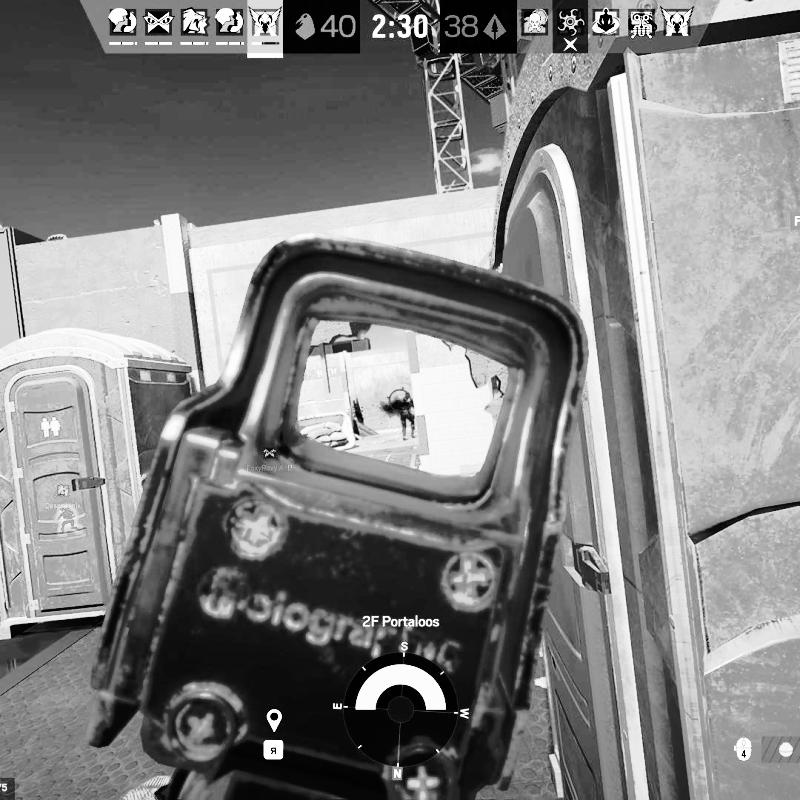Character: (399, 390, 418, 442)
Friend_label: (245, 446, 297, 473), (43, 483, 82, 510)
Head: (405, 390, 411, 398)
